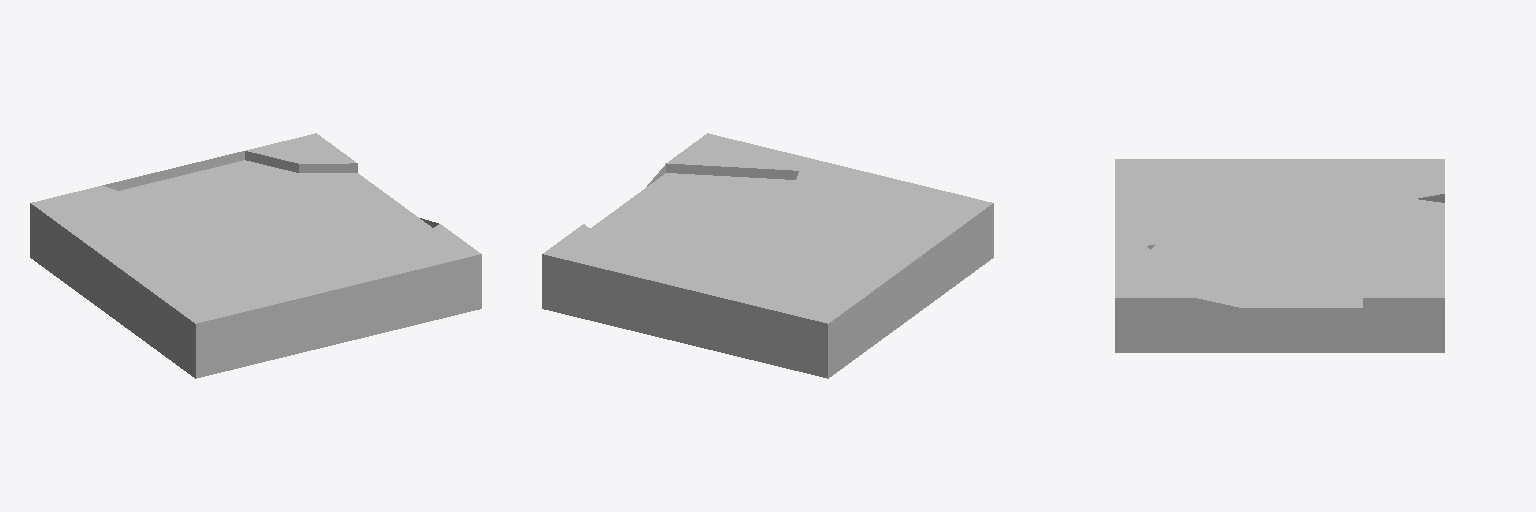
File: roadTile_016.obj
The picture shows the model from 3 angles: view 1: azimuth 30°, elevation 25°; view 2: azimuth 150°, elevation 25°; view 3: azimuth 270°, elevation 25°; orthographic projection.
Parts seen in each view (by area): view 1: Mesh1 Group1 Model; view 2: Mesh1 Group1 Model; view 3: Mesh1 Group1 Model.
Part boxes in pixels (x1,y1,x2,y2): Mesh1 Group1 Model: (30, 133, 481, 378); Mesh1 Group1 Model: (542, 133, 993, 378); Mesh1 Group1 Model: (1115, 159, 1444, 352).
Bounding box in the file's own units: 3 × 0.55 × 3.